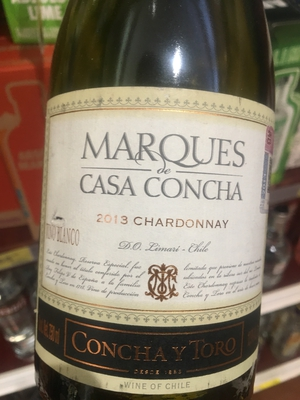marques de casa concha chardonnay: (41, 25, 270, 400)
